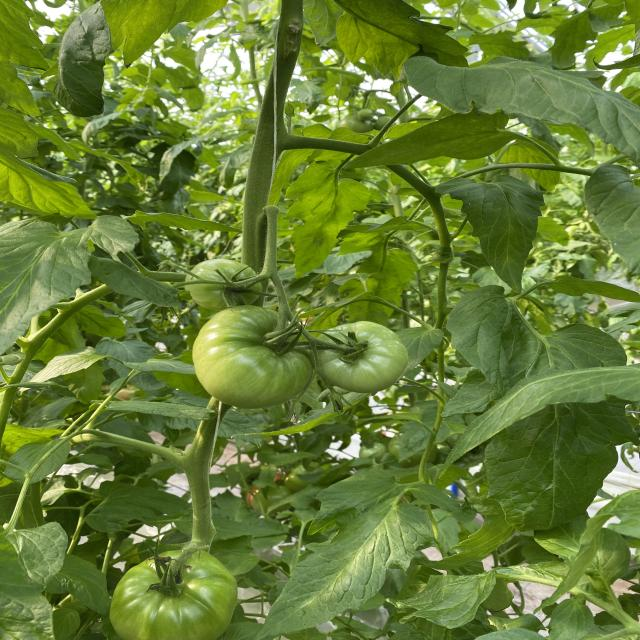unripe tomato: (150, 235, 434, 452), (72, 498, 226, 640)
